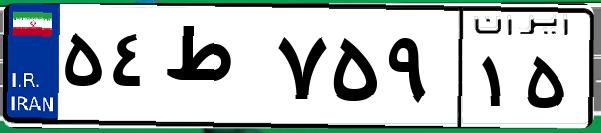1: (475, 38, 525, 113)
4: (110, 28, 158, 98)
5: (330, 28, 385, 110), (57, 26, 110, 100), (525, 38, 570, 115)
7: (270, 28, 330, 110)
9: (385, 28, 445, 110)
ط: (158, 20, 270, 120)
